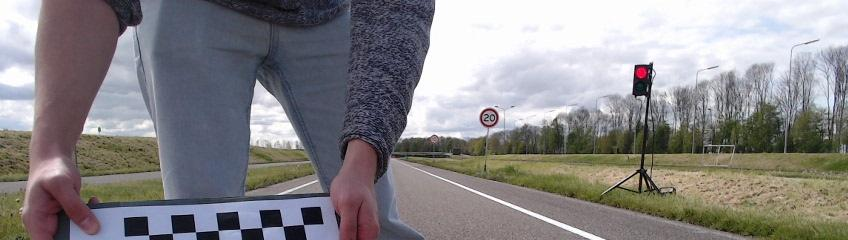Speed-limit-10km-h-: (430, 135, 439, 144)
Speed-limit-20km-h-: (480, 109, 498, 127)
TrafficLight-red: (633, 64, 651, 96)
